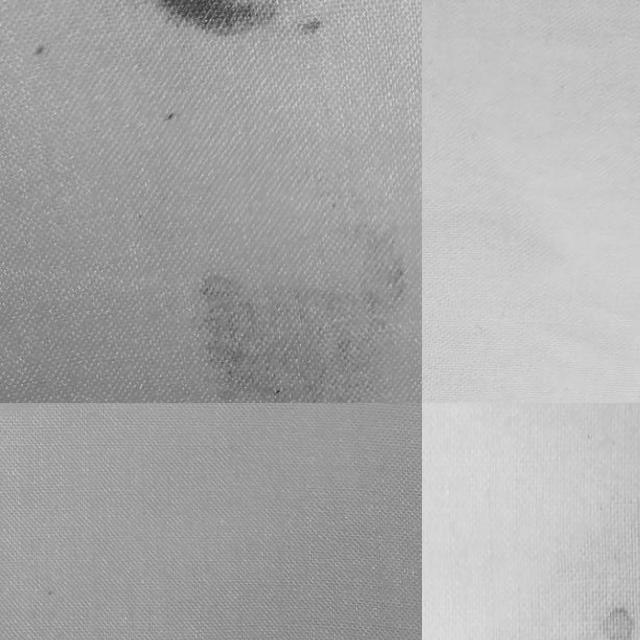Hole: (178, 232, 422, 403), (110, 0, 387, 73), (140, 98, 224, 158), (19, 2, 69, 97), (582, 587, 640, 640)
